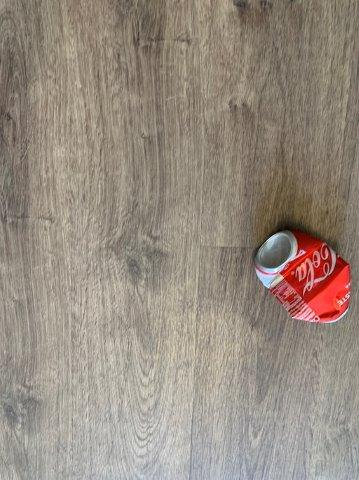kaleng: (256, 230, 351, 320)
